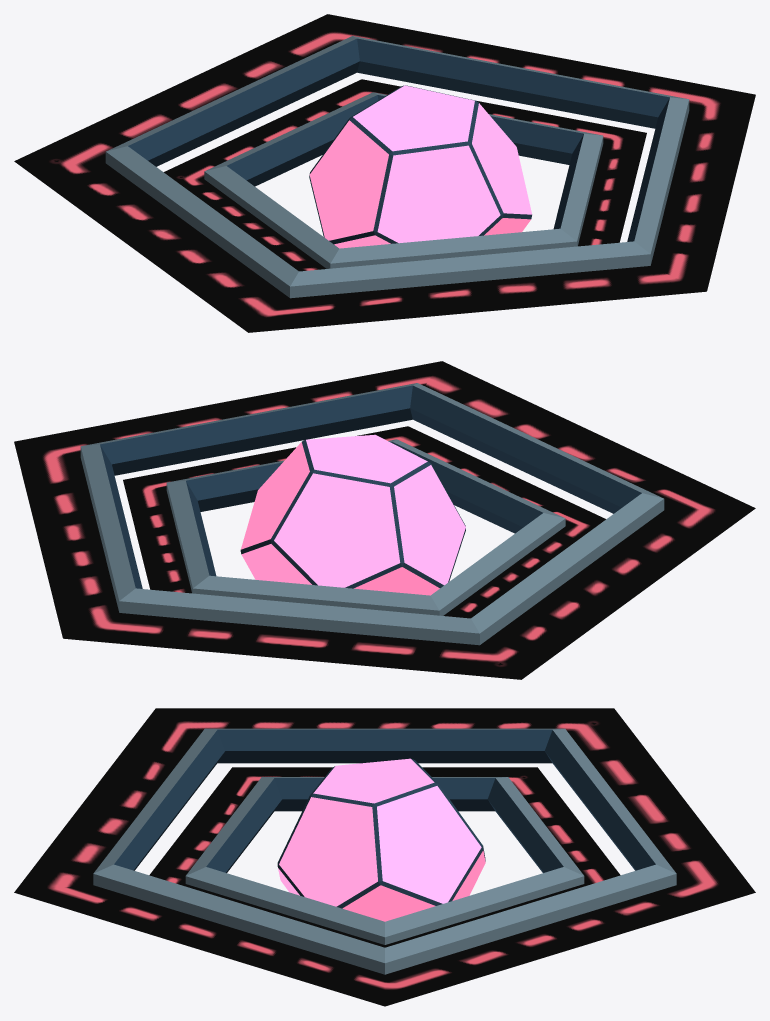
File: prop_environment_03.fbx
The picture shows the model from 3 angles, top to bottom: view 1: azimuth 30°, elevation 25°; view 2: azimuth 150°, elevation 25°; view 3: azimuth 270°, elevation 25°; orthographic projection. The views are drawn at different scales.
Visible parts, largest first — view 1: prop_environment_03; view 2: prop_environment_03; view 3: prop_environment_03.
Part boxes in pixels (x1,y1,x2,y2): prop_environment_03: [14, 14, 755, 332]; prop_environment_03: [14, 361, 755, 679]; prop_environment_03: [14, 708, 755, 1006].
Bounding box in the file's own units: 727 × 194 × 765.
